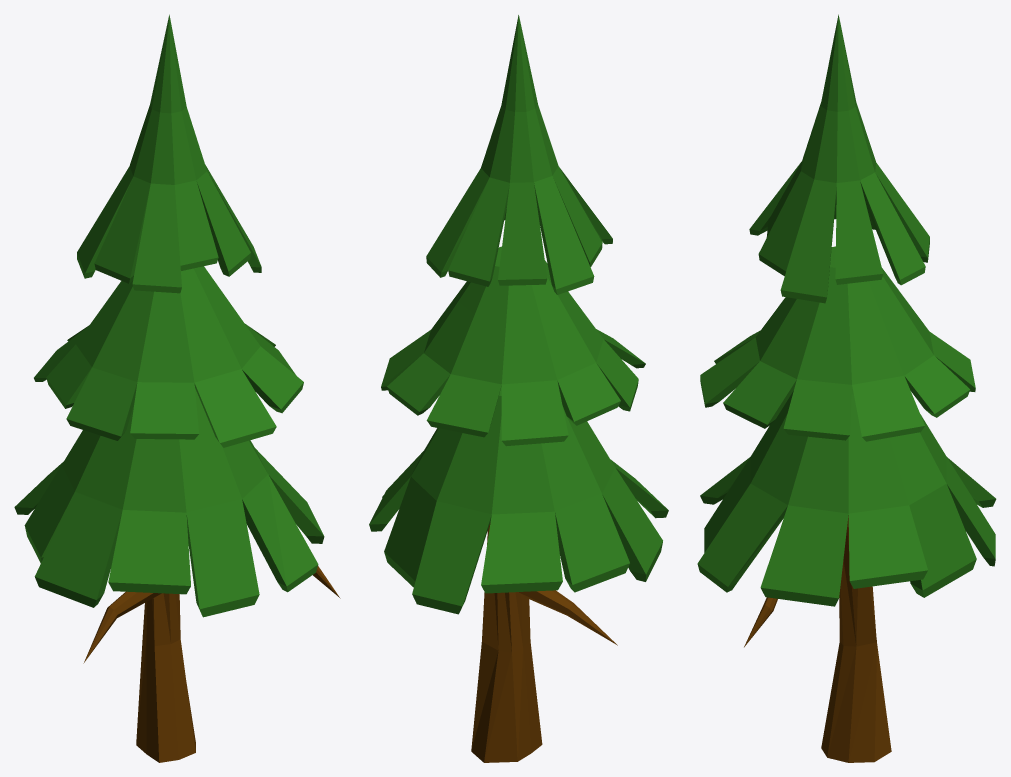
Rendered from tree.obj.
3 renders of one model, left to right at view 1: azimuth 30°, elevation 25°; view 2: azimuth 150°, elevation 25°; view 3: azimuth 270°, elevation 25°, orthographic.
Parts seen in each view (by area): view 1: Tree_Fir; view 2: Tree_Fir; view 3: Tree_Fir.
Part boxes in pixels (x1=…): Tree_Fir: x1=14, y1=14, x2=340, y2=762; Tree_Fir: x1=369, y1=15, x2=668, y2=762; Tree_Fir: x1=697, y1=14, x2=996, y2=762.
Bounding box in the file's own units: 2.11 × 5.52 × 2.04.
